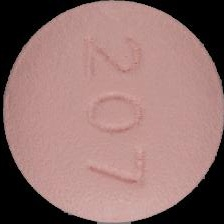35356-720: (0, 0, 224, 224)
